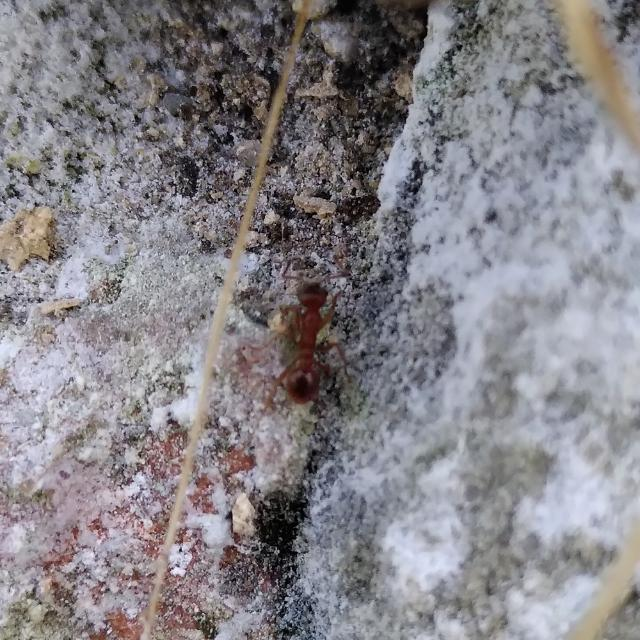Myrmica: (249, 263, 359, 423)
